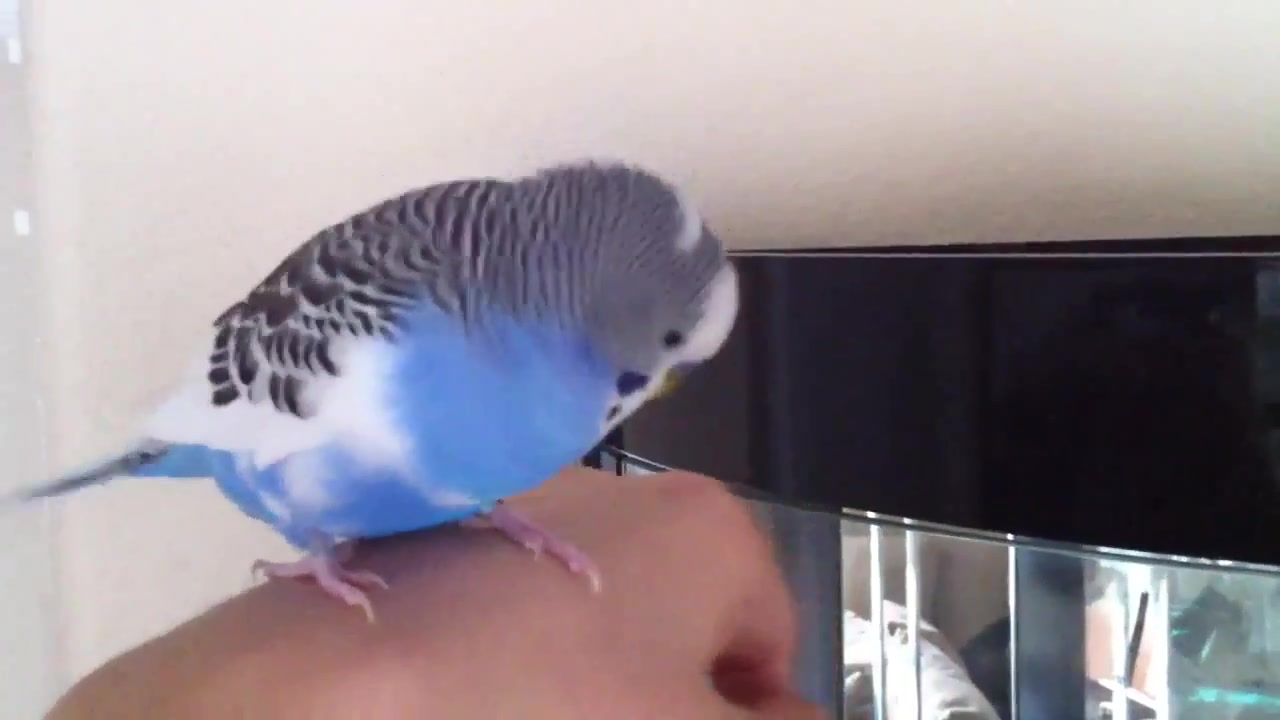bird: (1, 159, 739, 625)
